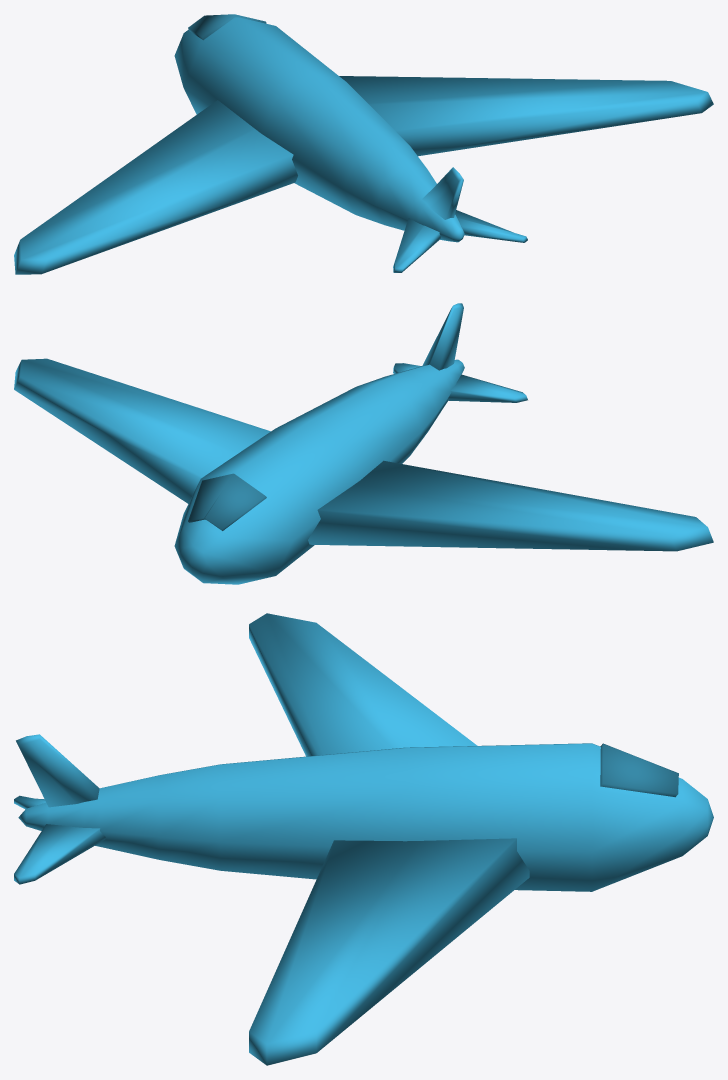
3 renders of one model, top to bottom at view 1: azimuth 30°, elevation 25°; view 2: azimuth 150°, elevation 25°; view 3: azimuth 270°, elevation 25°, orthographic. The views are drawn at different scales.
Visible parts, largest first — view 1: Cube.002; view 2: Cube.002; view 3: Cube.002.
Boxes of the visible parts, bbox=[...] form: Cube.002: bbox=[14, 14, 713, 274]; Cube.002: bbox=[14, 303, 713, 584]; Cube.002: bbox=[14, 613, 713, 1065].
Bounding box in the file's own units: 35.44 × 5.91 × 23.91.
